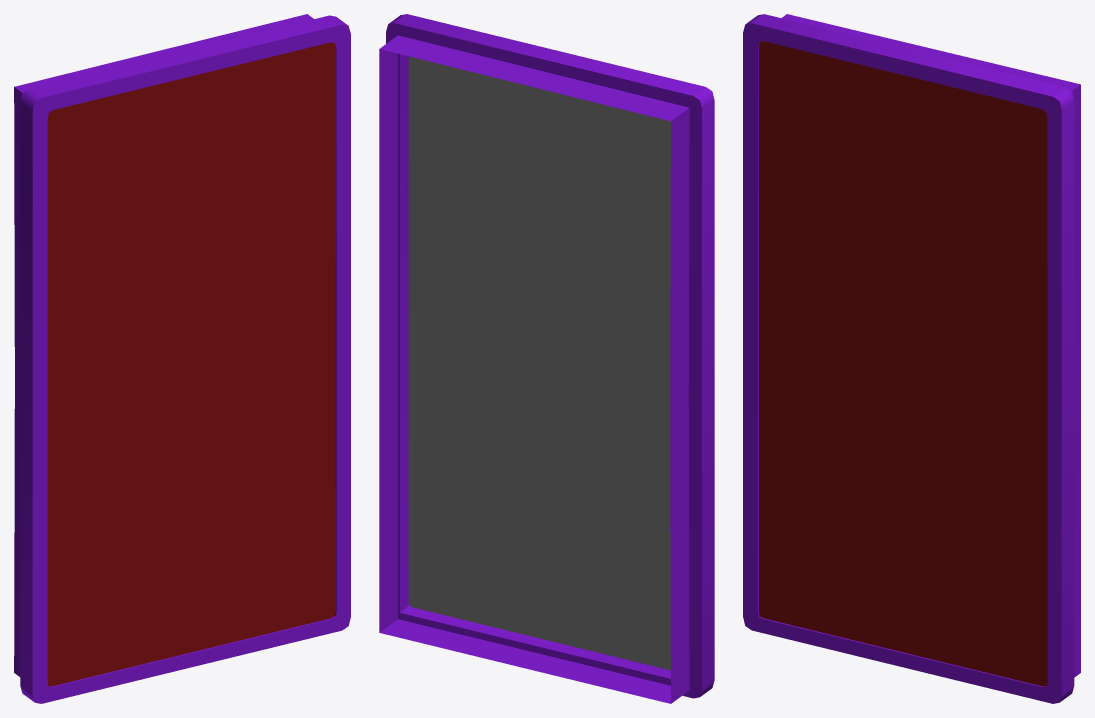
Rendered from SM_RSG_Subway_Lightbox_01.fbx.
The picture shows the model from 3 angles, left to right: view 1: azimuth 30°, elevation 25°; view 2: azimuth 150°, elevation 25°; view 3: azimuth 330°, elevation 25°; orthographic projection.
Parts seen in each view (by area): view 1: SM_RSG_Subway_Lightbox_01; view 2: SM_RSG_Subway_Lightbox_01; view 3: SM_RSG_Subway_Lightbox_01.
Part boxes in pixels (x1,y1,x2,y2): SM_RSG_Subway_Lightbox_01: (14,14,350,703); SM_RSG_Subway_Lightbox_01: (379,14,714,703); SM_RSG_Subway_Lightbox_01: (743,14,1080,703).
Size of the model in its own units: 96.46 by 176 by 16.43.
